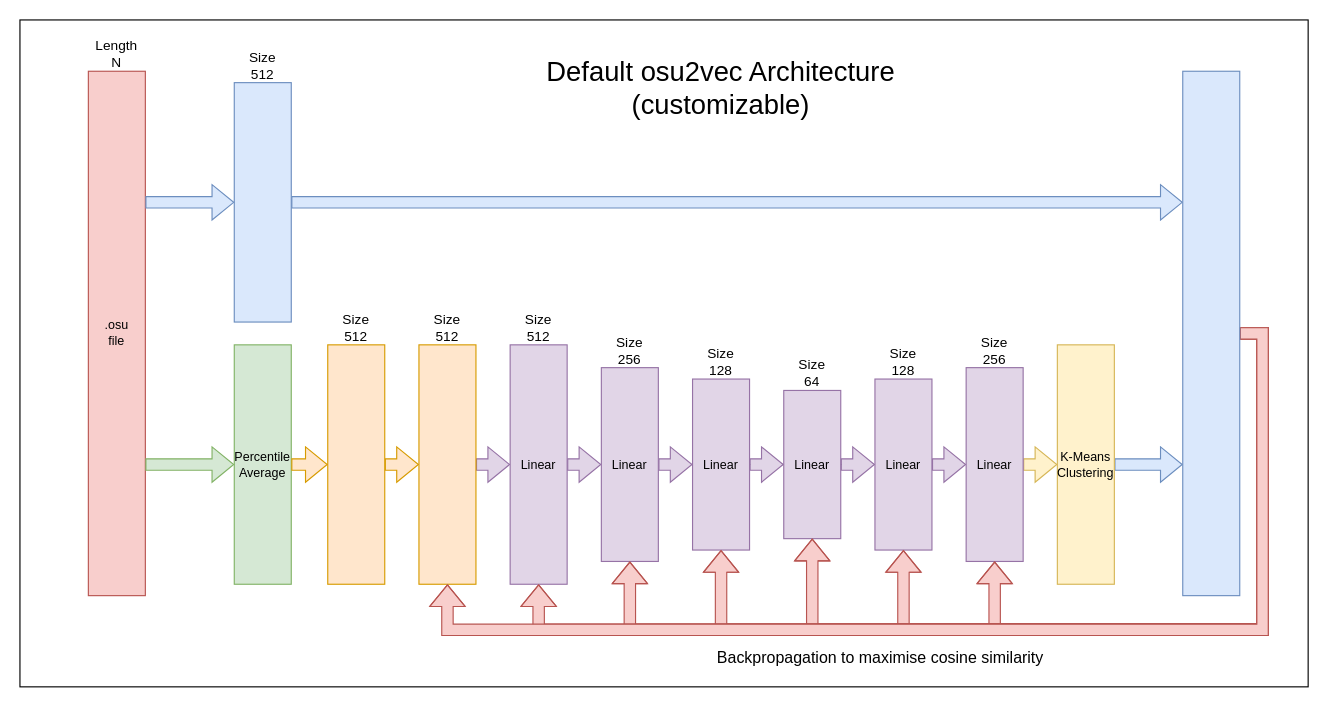
Some shapes in this 1328 by 707 pixel diagram are drawn without their labels. Each missing label, with the centre of its shape:
"Feature Hashing" belongs at point (262, 202).
"Hashed Cosine Similarity Within Clusters" belongs at point (1211, 333).
"Multi- head Attention" belongs at point (447, 464).
"Positional Encoding" belongs at point (356, 464).
